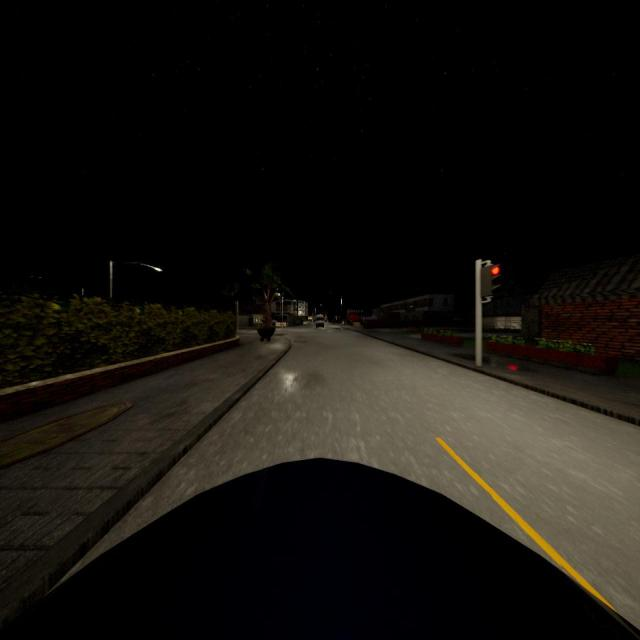Vehicle: (2, 458, 640, 640), (315, 314, 324, 328)
traffic_light: (481, 264, 502, 298)
